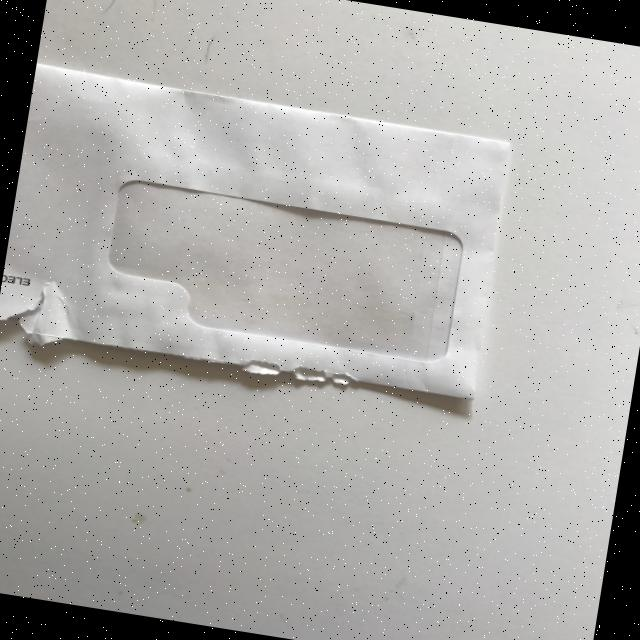paper: (0, 62, 517, 413)
